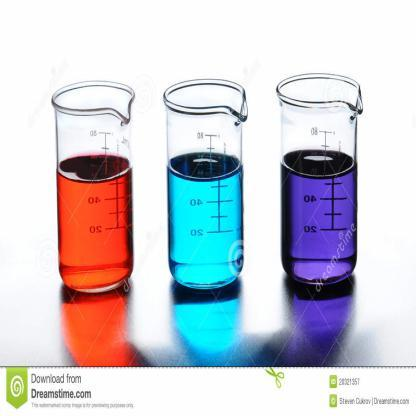Beaker: (46, 71, 138, 291), (279, 68, 365, 293), (163, 78, 253, 289)
